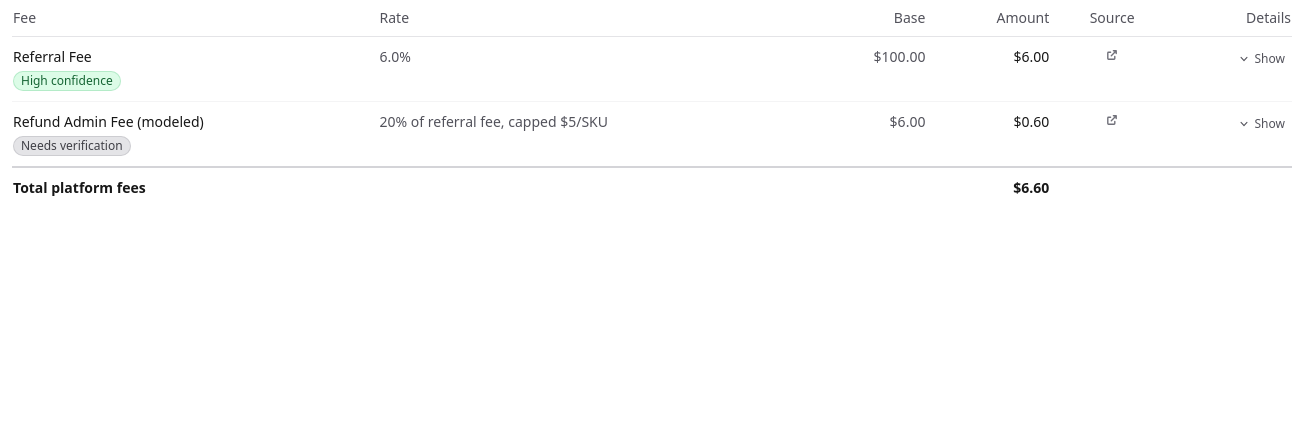
Test: FeeBreakdownTable › expands rows independently
This screenshot has width=1304, height=425.
Click the button "Show" in the row of "Refund Admin Fee (modeled)" at (1261, 124), box [1230,112,1291,136]
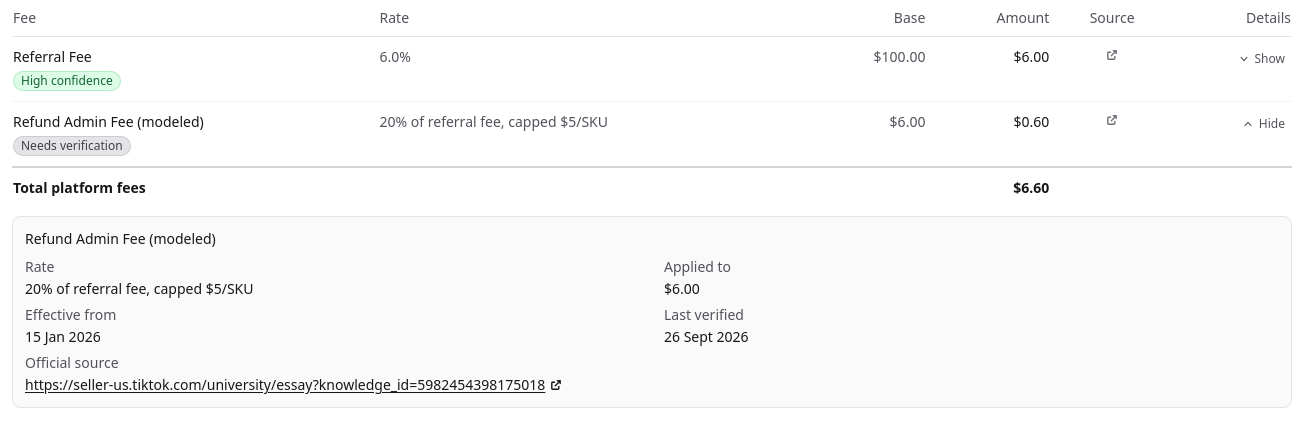
Expected: the button "Show" is shown, [1230,47,1291,71]
Now the text "Official source" is shown, box [25,353,119,372]
